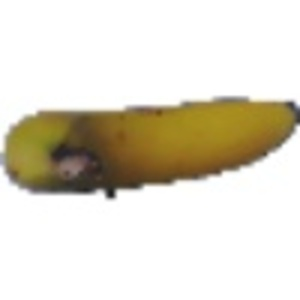banana: (3, 97, 296, 200)
